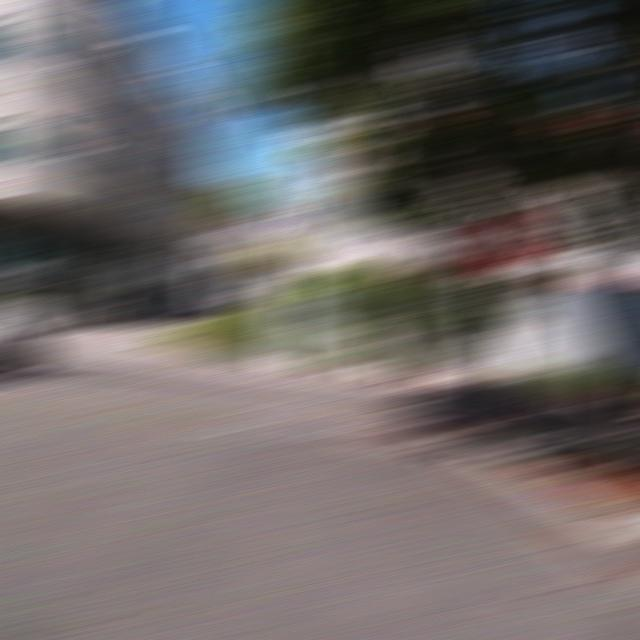stop_sign: (471, 212, 541, 271)
